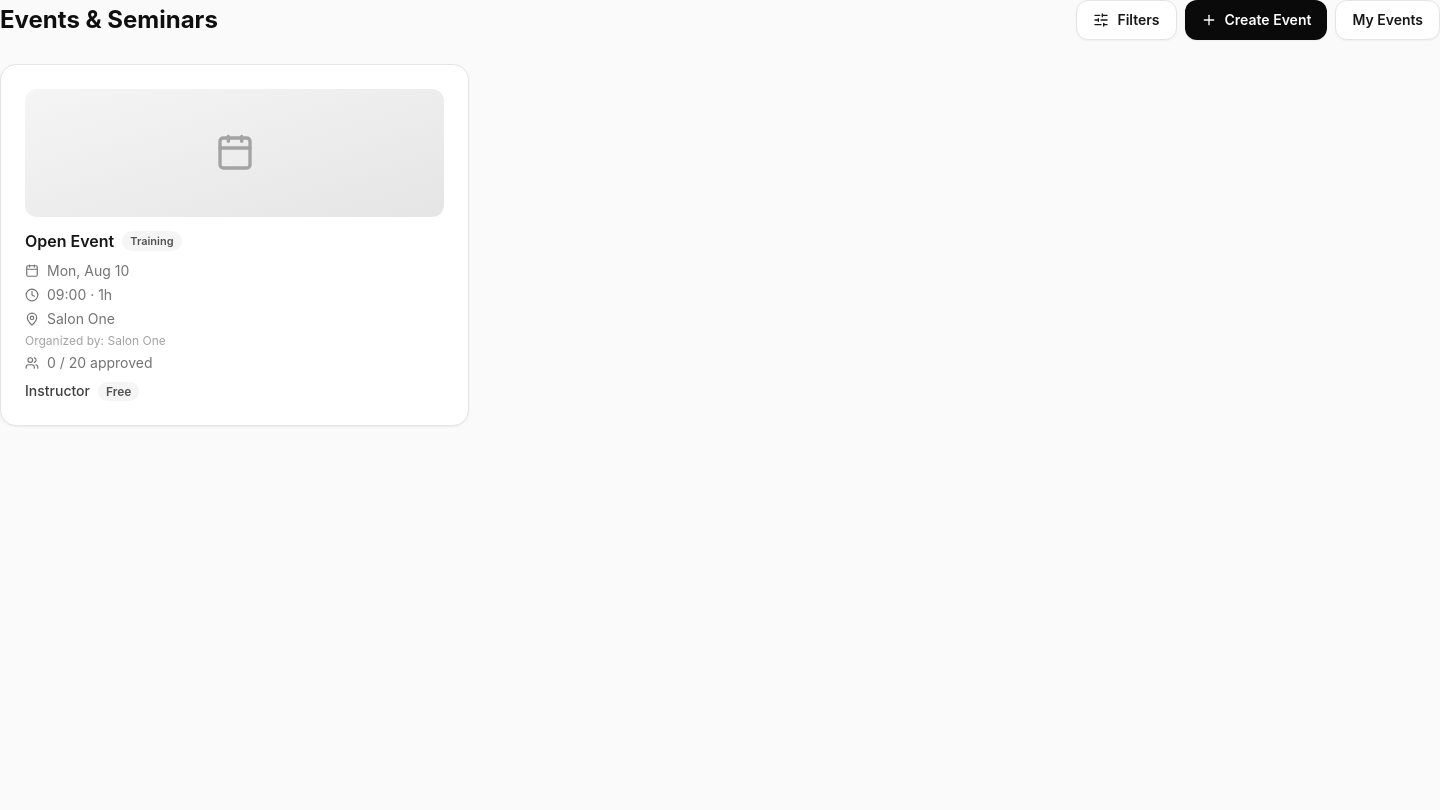
Test: EventsPage › keeps modal-driven registration failures inside the active modal without creating a global notification
Click the heading "Open Event". click: [70, 241]
box: [25,229,114,253]
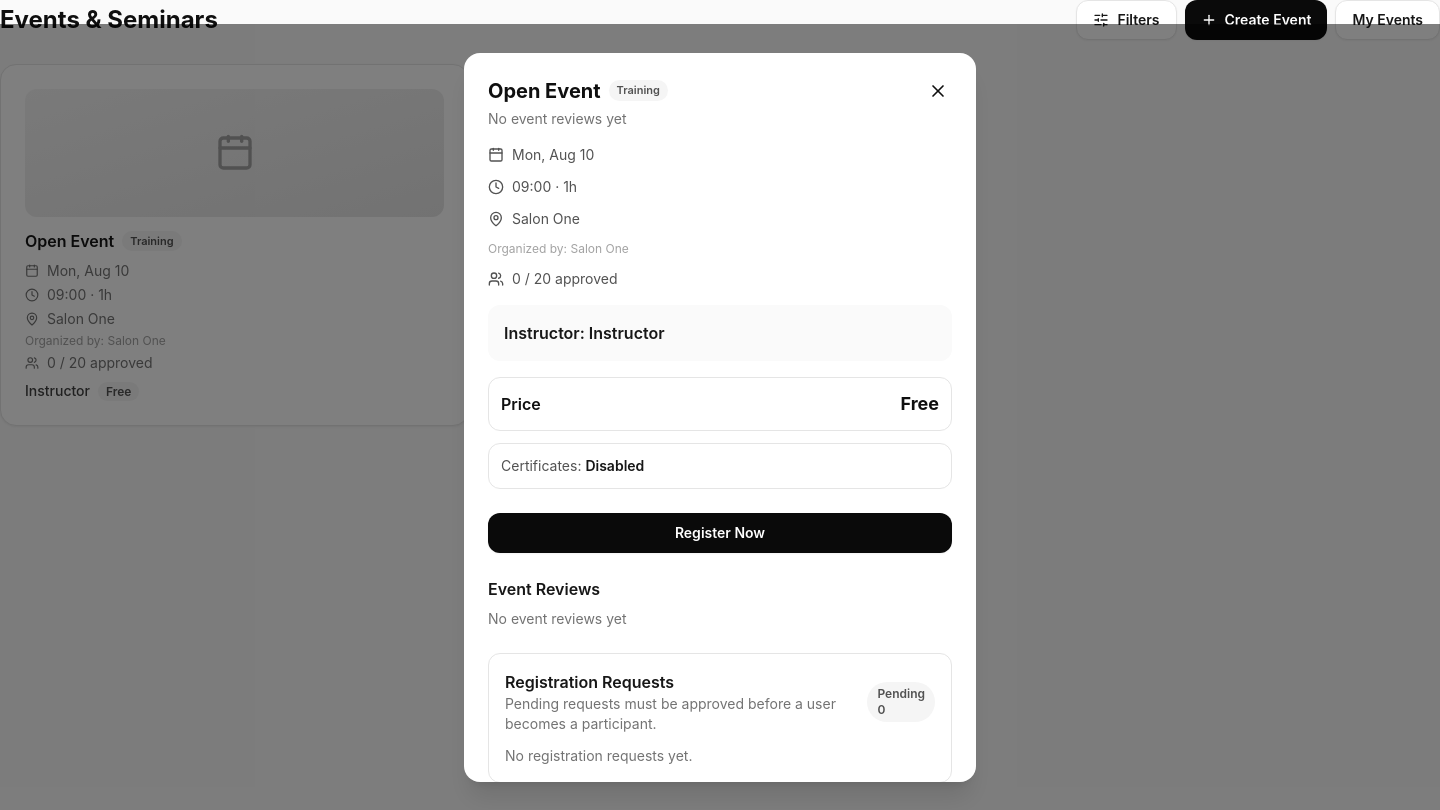
Expected: the heading "Registration Requests" is shown, [505,672,674,692]
Click the button "Register Now". click: [720, 532]
box: [488,512,952,552]
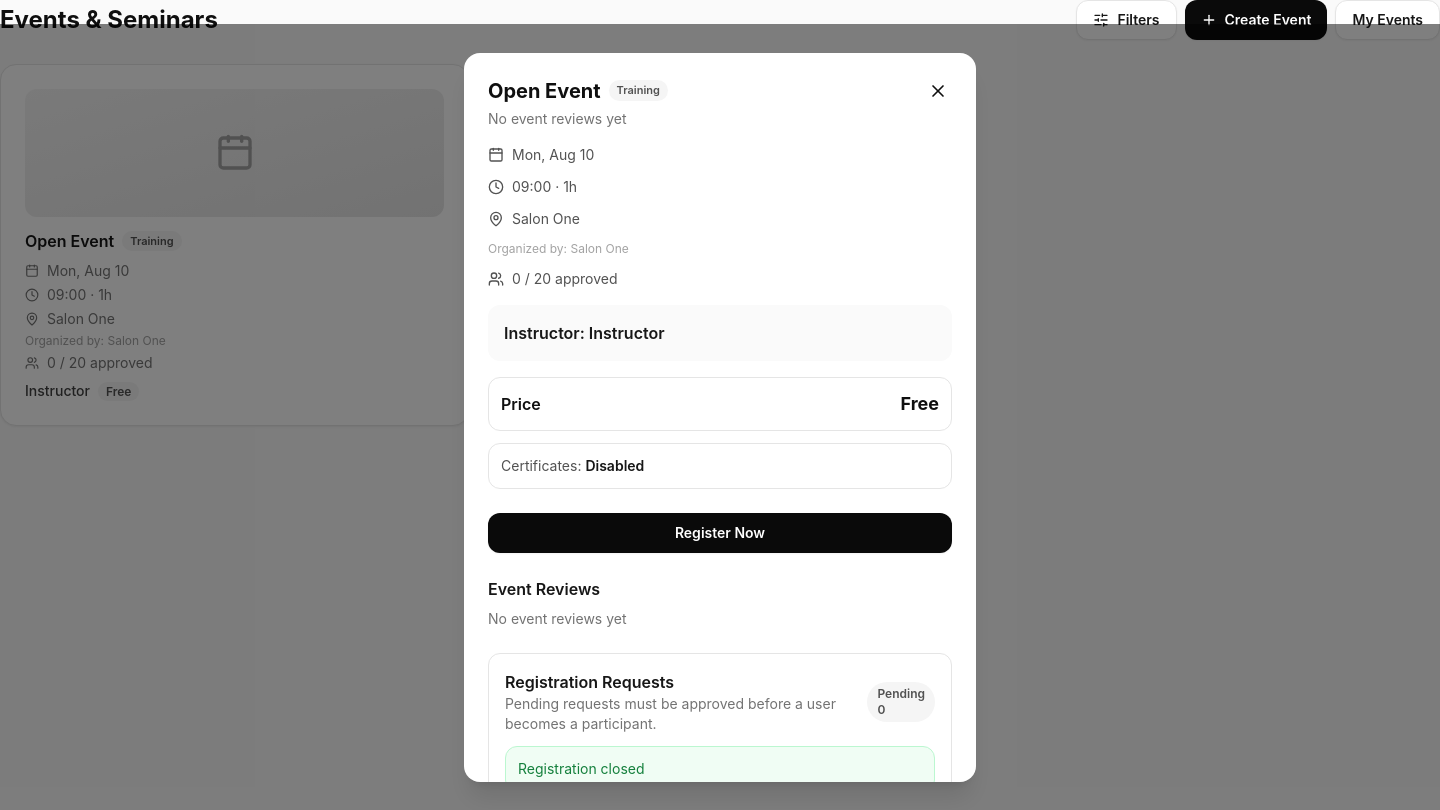
Expected: the button "Register Now" is enabled, [488,512,952,552]
Expected: the text "Registration closed" is shown once, [505,746,935,782]
